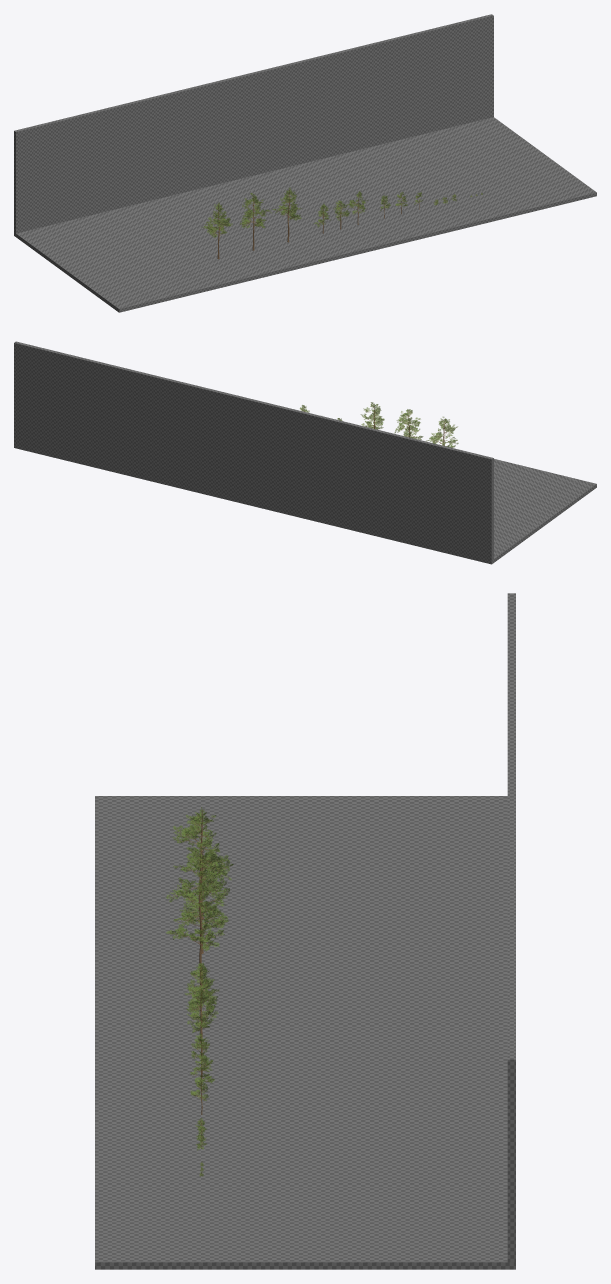
Rendered from pine_trees_pack_lowpoly_game_ready_lods.glb.
3 views of the same model, one above another, from view 1: azimuth 30°, elevation 25°; view 2: azimuth 150°, elevation 25°; view 3: azimuth 270°, elevation 25° (orthographic). The views are drawn at different scales.
Visible parts, largest first — view 1: Back, Pine_large_2_LOD0, Pine_large_1_LOD0, Pine_large_3_LOD0; view 2: Back, Pine_large_2_LOD0, Pine_large_1_LOD0, Pine_large_3_LOD0; view 3: Back, Pine_large_2_LOD0, Pine_large_3_LOD0, Pine_large_1_LOD0.
Boxes of the visible parts, box(x1,y1,x2,y2) form: Back: box(14, 14, 596, 312); Pine_large_2_LOD0: box(240, 193, 271, 250); Pine_large_1_LOD0: box(201, 202, 232, 259); Pine_large_3_LOD0: box(272, 187, 301, 242); Back: box(14, 341, 596, 564); Pine_large_2_LOD0: box(394, 409, 423, 439); Pine_large_1_LOD0: box(426, 416, 458, 447); Pine_large_3_LOD0: box(360, 402, 384, 429); Back: box(95, 593, 515, 1269); Pine_large_2_LOD0: box(166, 840, 229, 953); Pine_large_3_LOD0: box(166, 881, 228, 987); Pine_large_1_LOD0: box(172, 807, 233, 919).
Size of what is drawn, in the model's own units: 274 by 57.54 by 104.
4 materials, 4 textured.
